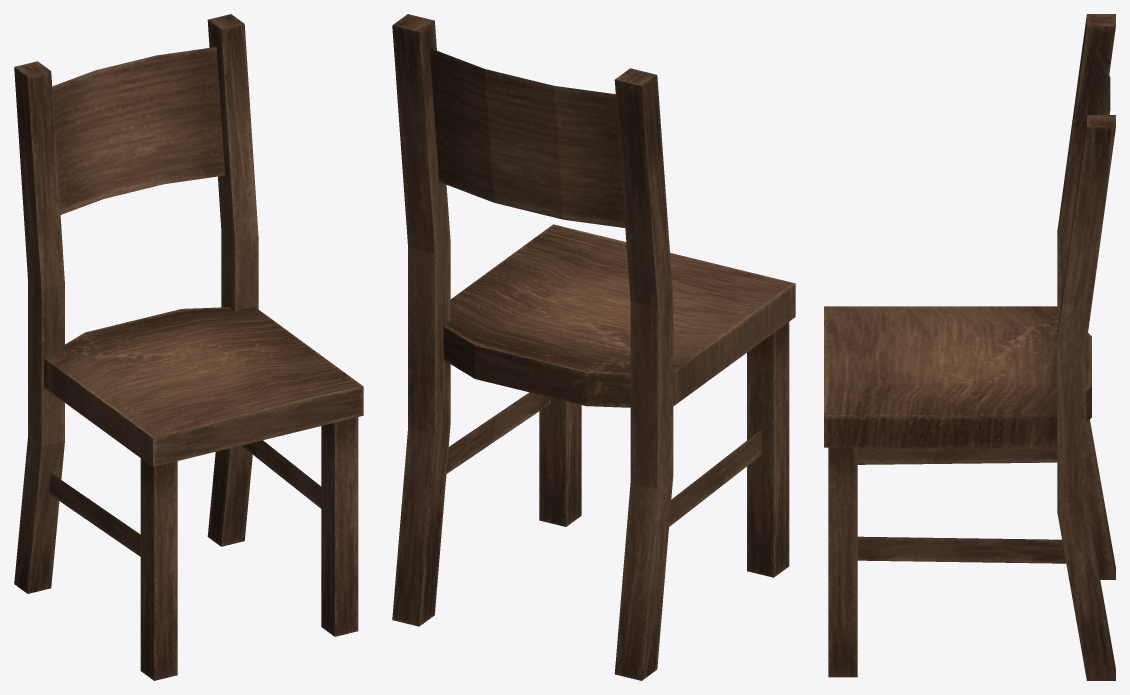
File: Chair_1.fbx
The picture shows the model from 3 angles, left to right: view 1: azimuth 30°, elevation 25°; view 2: azimuth 150°, elevation 25°; view 3: azimuth 270°, elevation 25°; orthographic projection. The views are drawn at different scales.
Visible parts, largest first — view 1: Chair_1; view 2: Chair_1; view 3: Chair_1.
Part boxes in pixels (<box>): Chair_1: <box>14,14,363,680</box>; Chair_1: <box>392,14,795,680</box>; Chair_1: <box>824,14,1115,680</box>.
Bounding box in the file's own units: 50.51 × 115 × 54.97.
